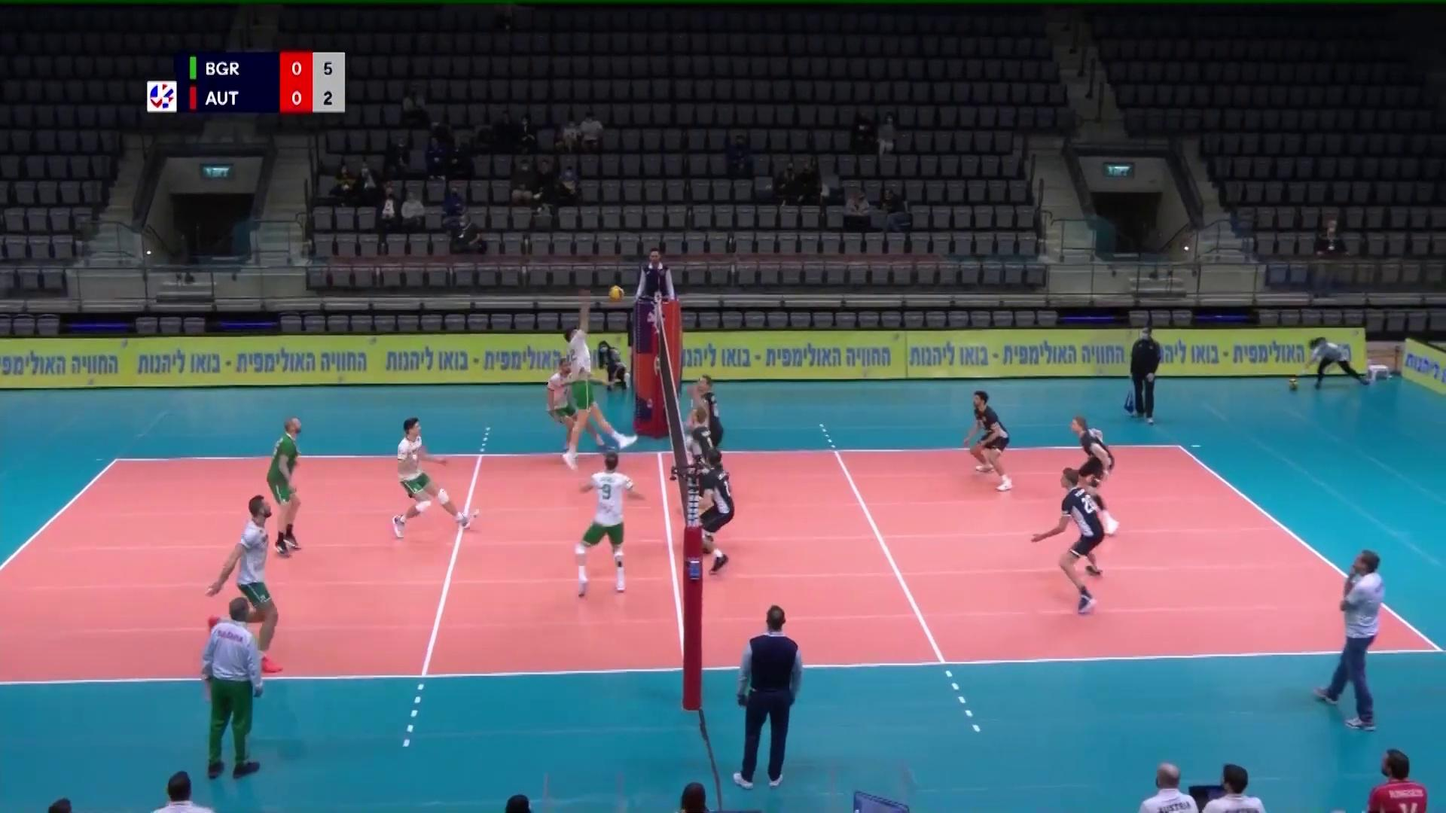ball: (608, 284, 624, 302)
